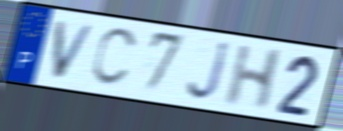2: (271, 50, 324, 120)
7: (143, 28, 189, 98)
C: (88, 27, 141, 90)
H: (222, 43, 287, 112)
J: (185, 39, 233, 104)
V: (51, 19, 99, 82)
